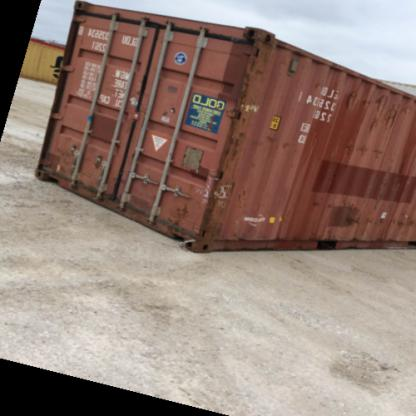Damage: (208, 115, 243, 238), (338, 85, 412, 132), (309, 182, 357, 242), (235, 46, 268, 115), (168, 186, 203, 237), (336, 132, 390, 164), (45, 137, 83, 182), (358, 206, 412, 233), (85, 149, 112, 186), (156, 94, 183, 127), (262, 131, 293, 155)
